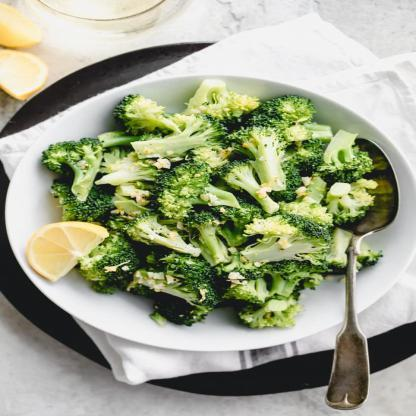broccoli: (38, 79, 384, 329)
